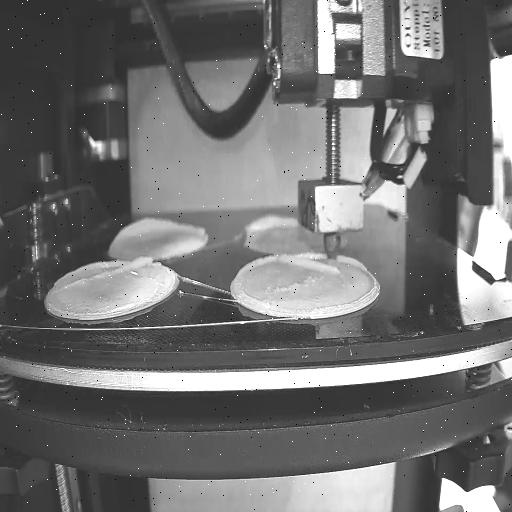over_extrusion: (57, 251, 155, 296), (112, 215, 212, 242), (236, 254, 274, 308), (240, 213, 300, 241), (282, 254, 340, 274)
